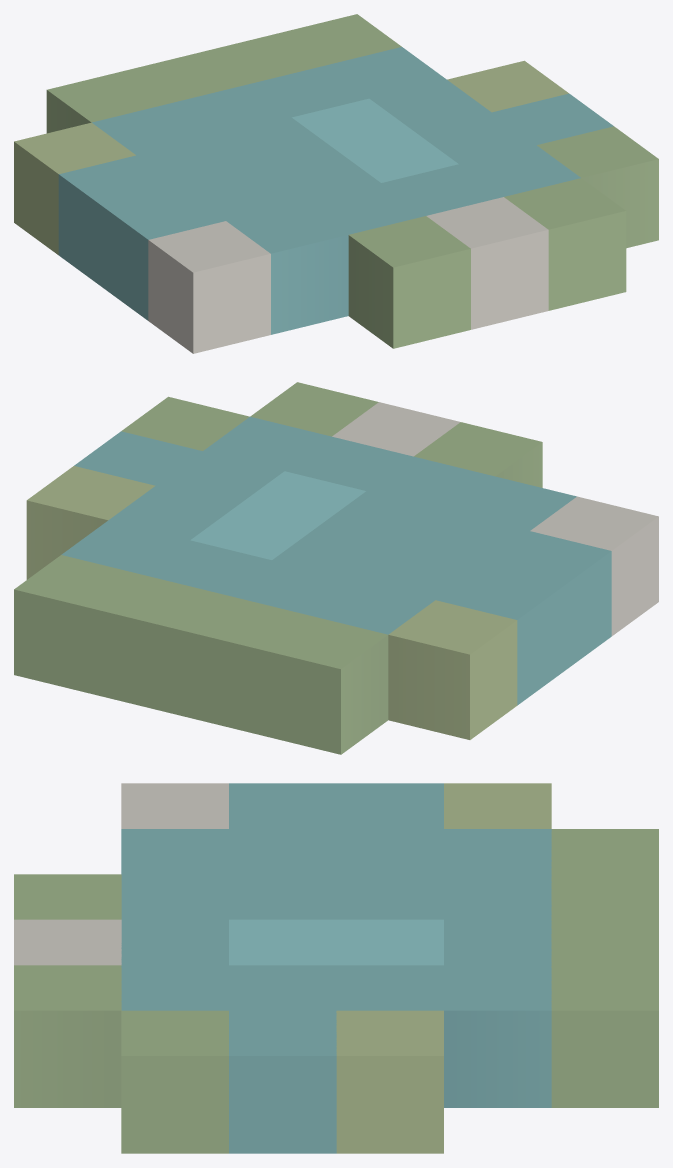
Rendered from pond.lite.glb.
3 views of the same model, one above another, from view 1: azimuth 30°, elevation 25°; view 2: azimuth 150°, elevation 25°; view 3: azimuth 270°, elevation 25° (orthographic). The views are drawn at different scales.
Visible parts, largest first — view 1: pond; view 2: pond; view 3: pond.
Boxes of the visible parts, left/top/right/bottom form: pond: left=14, top=14, right=658, bottom=353; pond: left=14, top=382, right=658, bottom=754; pond: left=14, top=783, right=658, bottom=1153.
Bounding box in the file's own units: 3 × 0.5 × 3.
